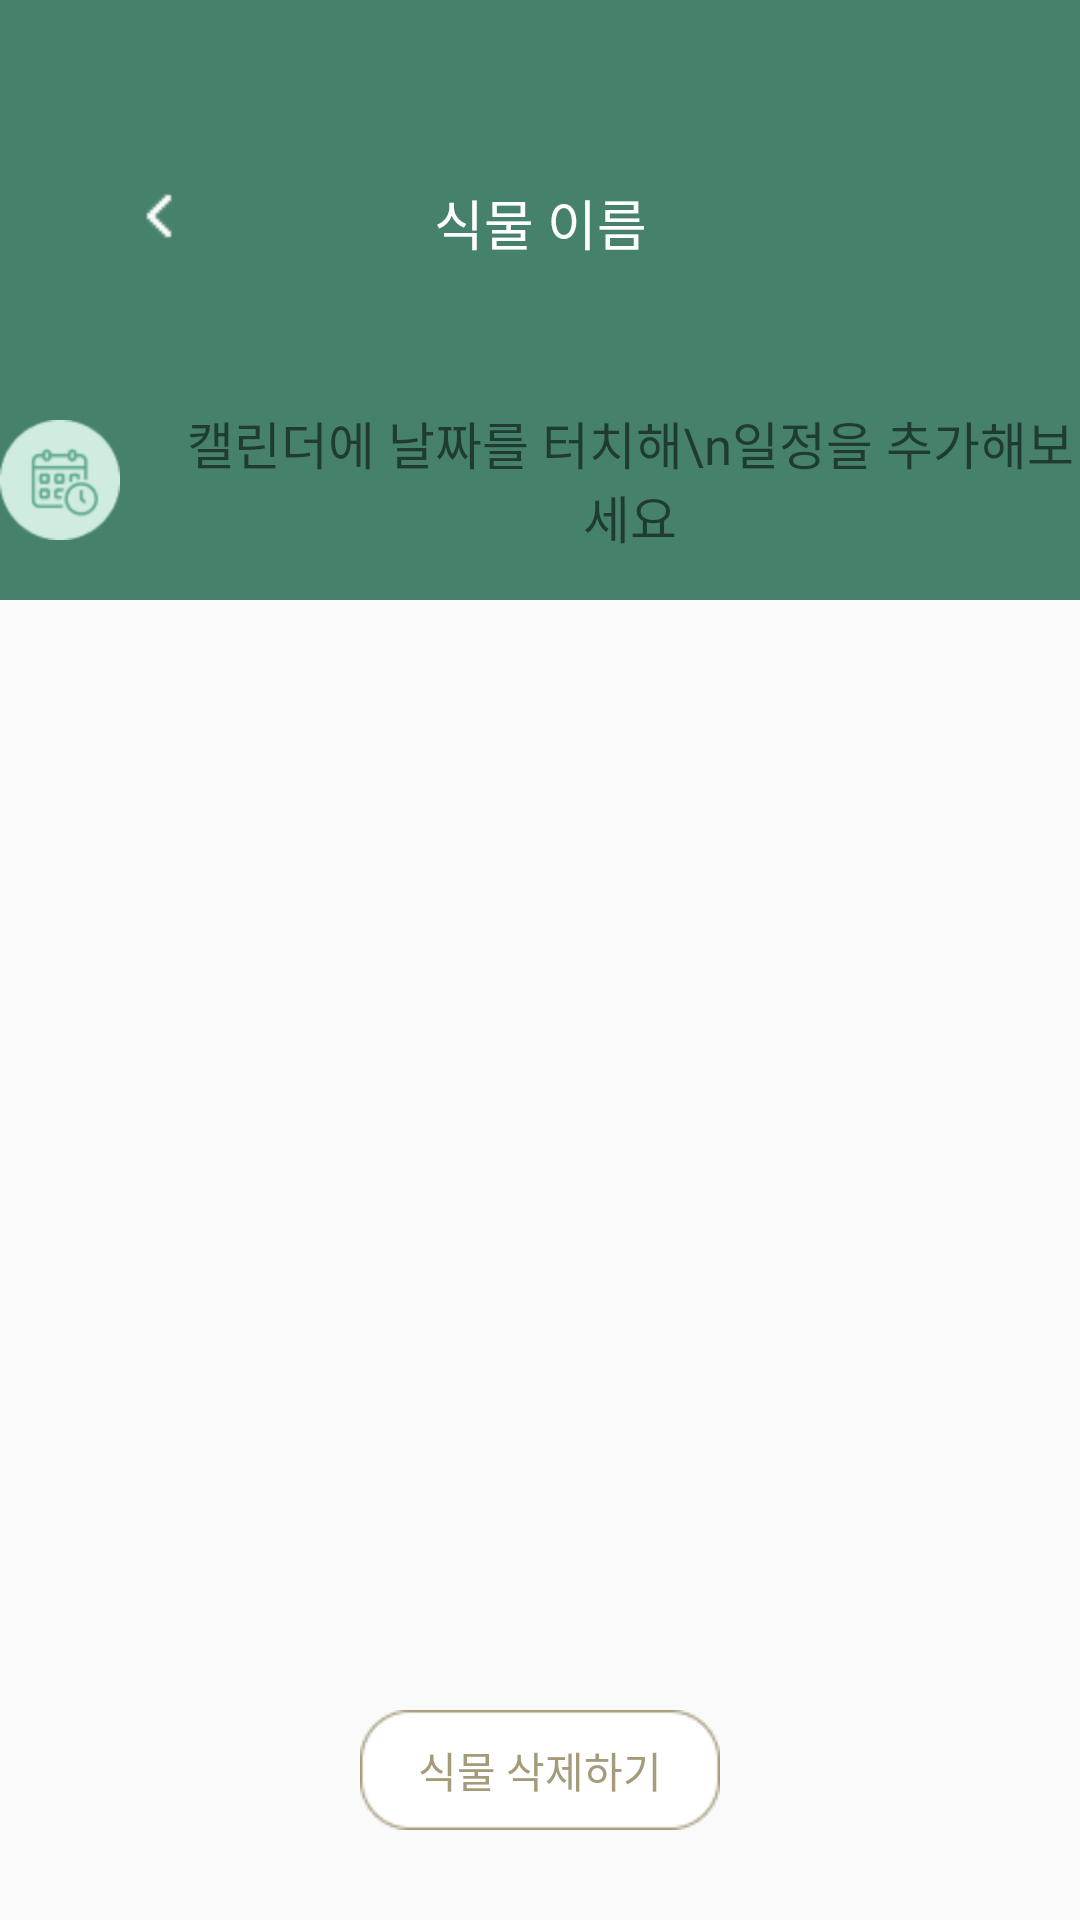

Icons on this 1080 x 1920 Android screen, each with the point to tap as [x,y]:
manage calender: [60,480]
manage left: [159,216]
